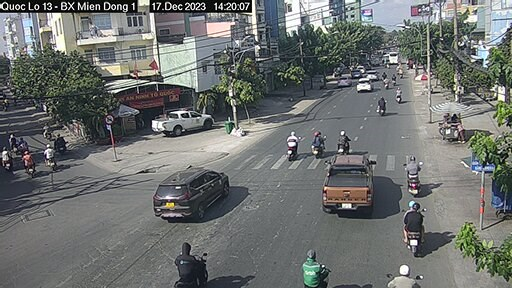car: (152, 167, 232, 222), (322, 154, 377, 214), (148, 110, 216, 138), (356, 78, 373, 93)
motorbike: (402, 200, 428, 257), (404, 156, 426, 195), (312, 127, 328, 162), (283, 131, 300, 159), (332, 129, 351, 153), (1, 146, 16, 175), (43, 143, 59, 169), (21, 151, 37, 176), (379, 92, 388, 118), (394, 86, 404, 106)
